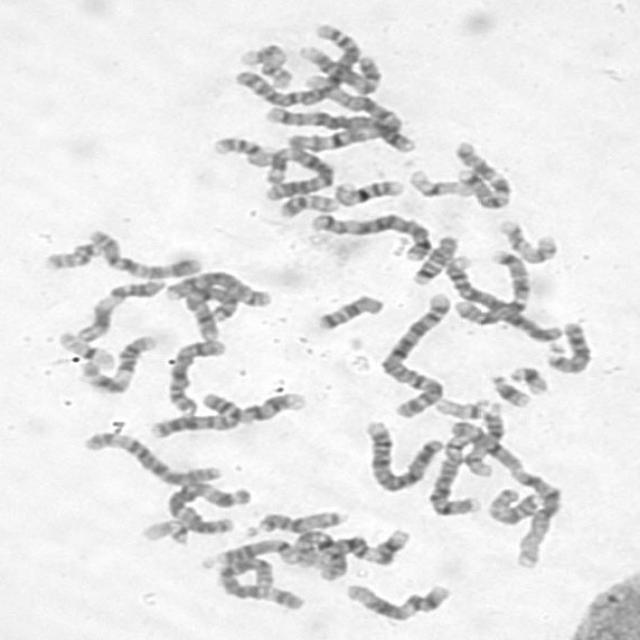A1: (440, 414, 567, 569), (297, 70, 416, 154)
A2: (229, 18, 365, 109), (375, 287, 454, 420)
A3: (160, 476, 253, 536), (257, 142, 337, 202)
B4: (438, 250, 562, 344), (359, 414, 447, 494)
B5: (259, 101, 415, 153), (303, 208, 433, 262)
C10: (80, 224, 204, 281), (289, 524, 348, 582)
C11: (69, 274, 168, 343), (74, 330, 159, 394)
C12: (303, 524, 412, 572), (339, 578, 452, 622)
C6: (77, 426, 225, 487), (212, 552, 308, 612)
C7: (446, 245, 534, 326), (448, 135, 514, 211)
C8: (422, 428, 481, 517), (159, 266, 274, 308)
C9: (296, 40, 385, 98), (192, 386, 309, 424)
D13: (148, 404, 242, 441), (539, 315, 594, 375)
D14: (458, 397, 507, 478), (198, 533, 301, 570)
D15: (242, 505, 348, 537), (481, 483, 544, 527)
E16: (328, 173, 406, 207), (207, 131, 272, 169)
E17: (492, 213, 561, 266), (235, 39, 295, 90)
E18: (310, 288, 386, 332), (406, 230, 460, 286)
F19: (51, 326, 118, 370), (403, 164, 473, 200)
F20: (37, 236, 102, 272), (273, 188, 340, 219)
G21: (484, 369, 532, 408), (502, 360, 552, 395)
G22: (134, 514, 192, 546), (429, 392, 491, 420)
X: (160, 334, 228, 415), (176, 278, 242, 341)
